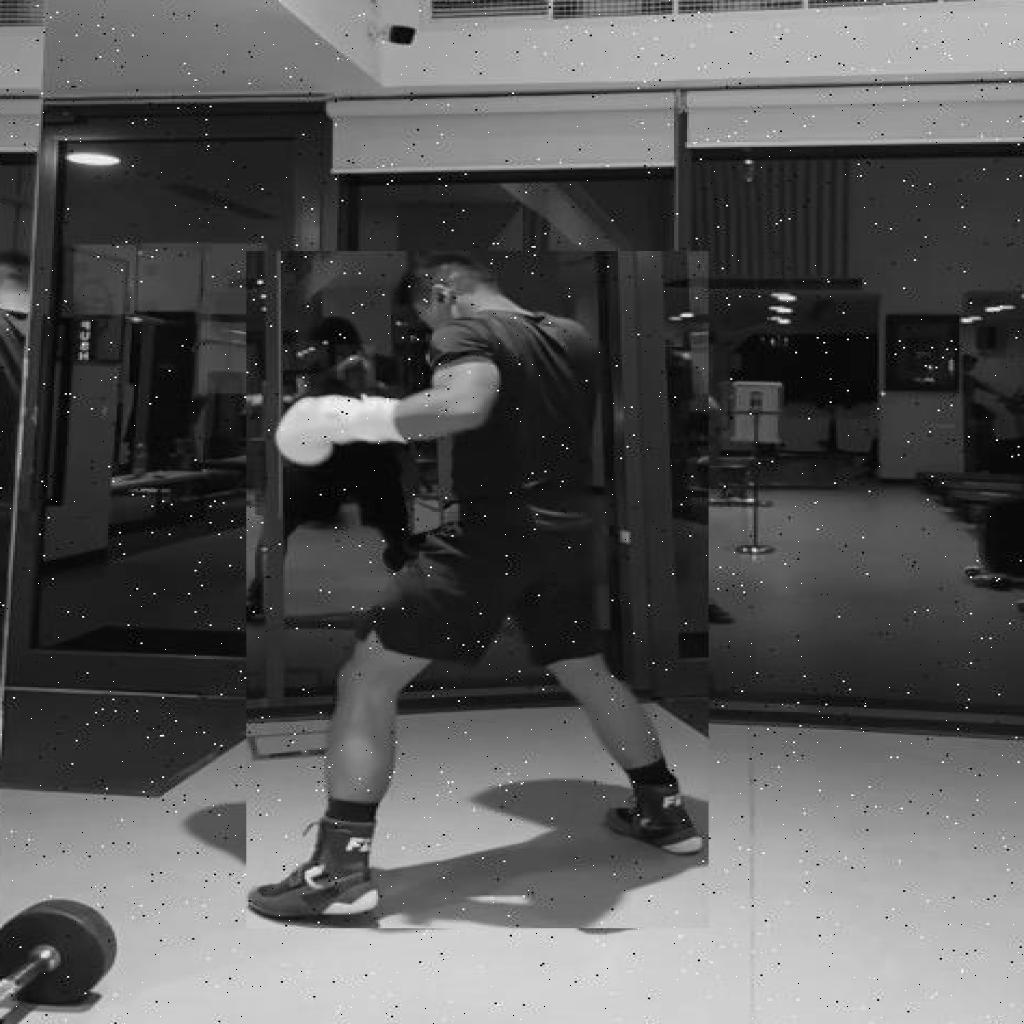hook: (246, 251, 708, 928)
